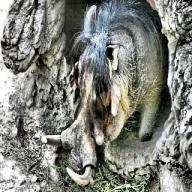boar: (42, 0, 170, 186)
